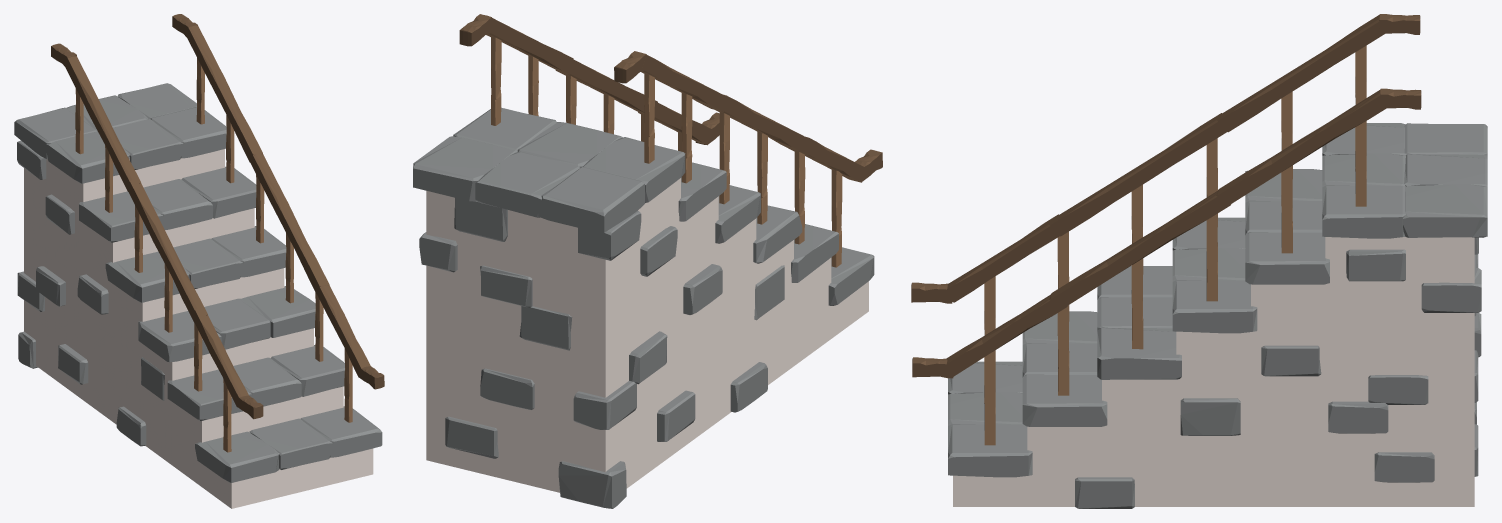
The model's file is PK_Stairs_Stone.fbx.
3 views of the same model, side by side, from view 1: azimuth 30°, elevation 25°; view 2: azimuth 150°, elevation 25°; view 3: azimuth 270°, elevation 25° (orthographic). The views are drawn at different scales.
Visible parts, largest first — view 1: PK_Stairs_Stone; view 2: PK_Stairs_Stone; view 3: PK_Stairs_Stone.
Boxes of the visible parts, box(x1,y1,x2,y2) form: PK_Stairs_Stone: box(14, 14, 384, 508); PK_Stairs_Stone: box(413, 14, 882, 508); PK_Stairs_Stone: box(911, 14, 1487, 508).
Size of the model in its own units: 131 by 262 by 332.
